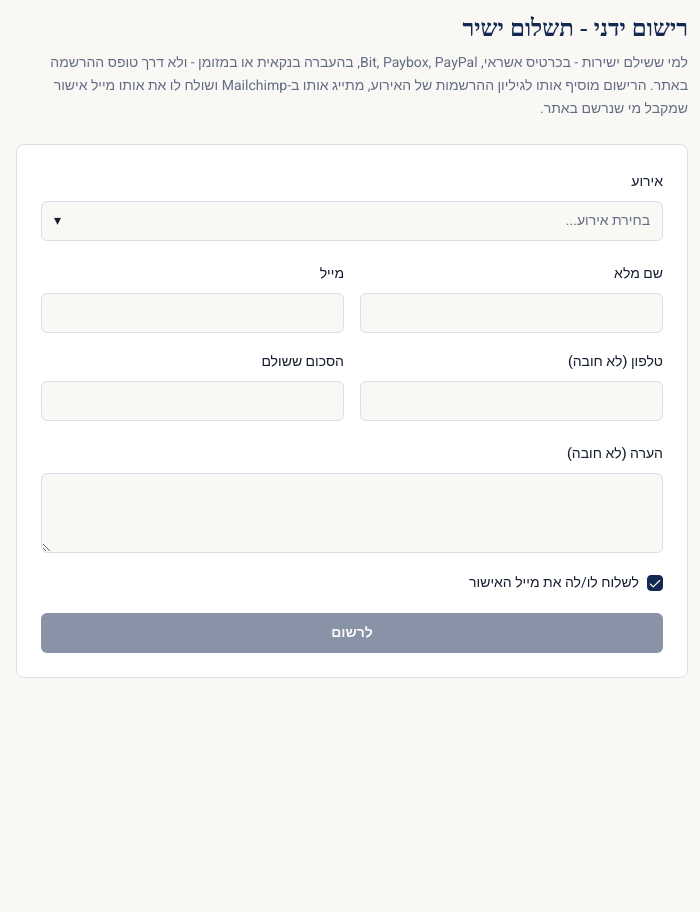
Test: AdminManualRegistration › Hebrew event: credit card is the default, Bit and Paybox are offered, no PayPal
The image size is (700, 912).
Click the button "בחירת אירוע... ▾".
click(608, 221)  # box [41,201,663,241]
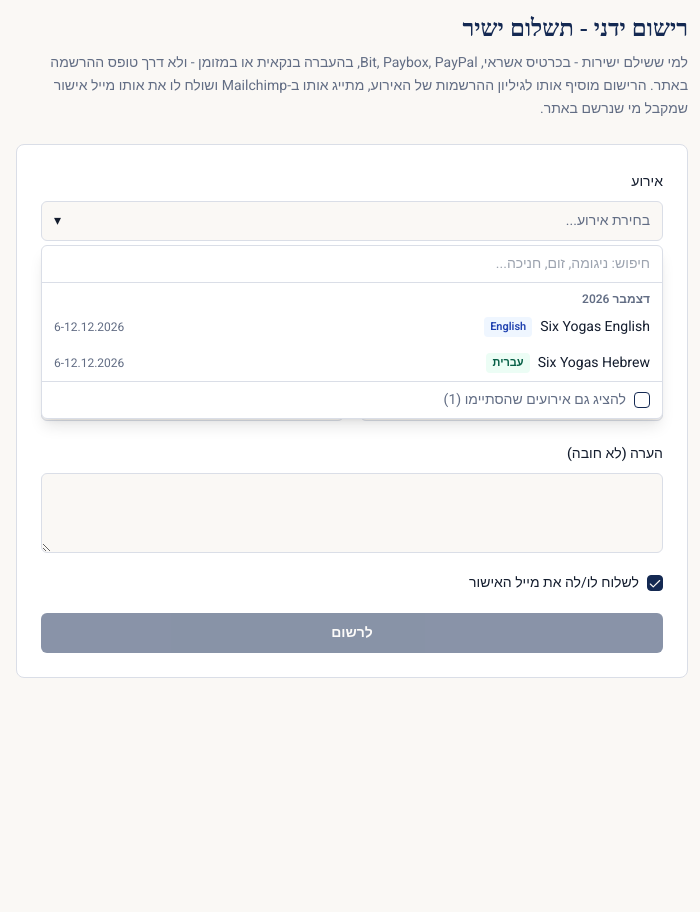
Click the option "Six Yogas Hebrew עברית 6-12.12.2026".
click(594, 363)  # box [42,345,662,381]
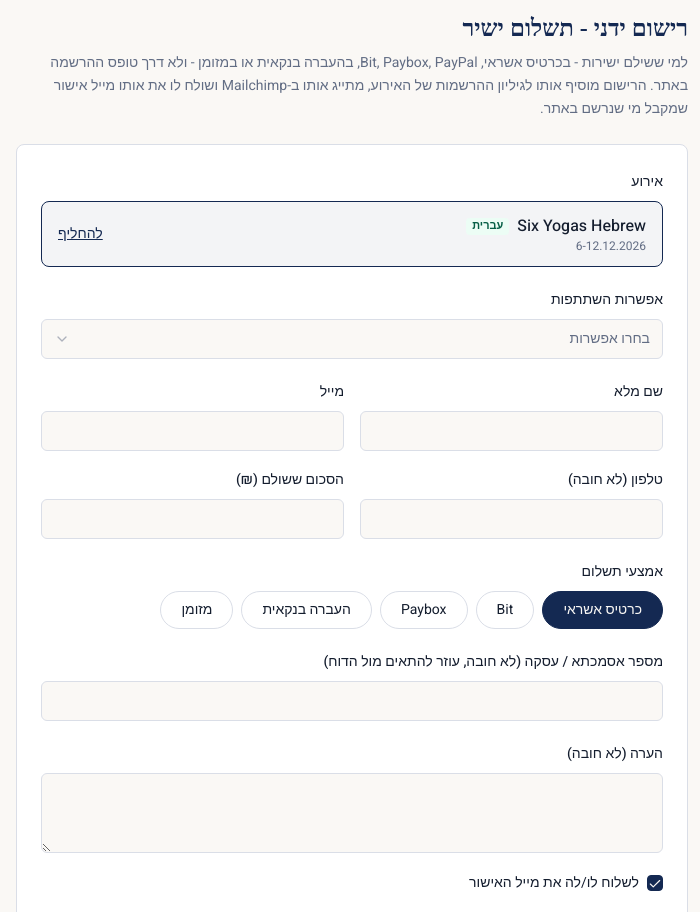
Expected: the button "Bit" is shown, [476,591,534,629]
Expected: the button "Paybox" is shown, [380,591,468,629]
